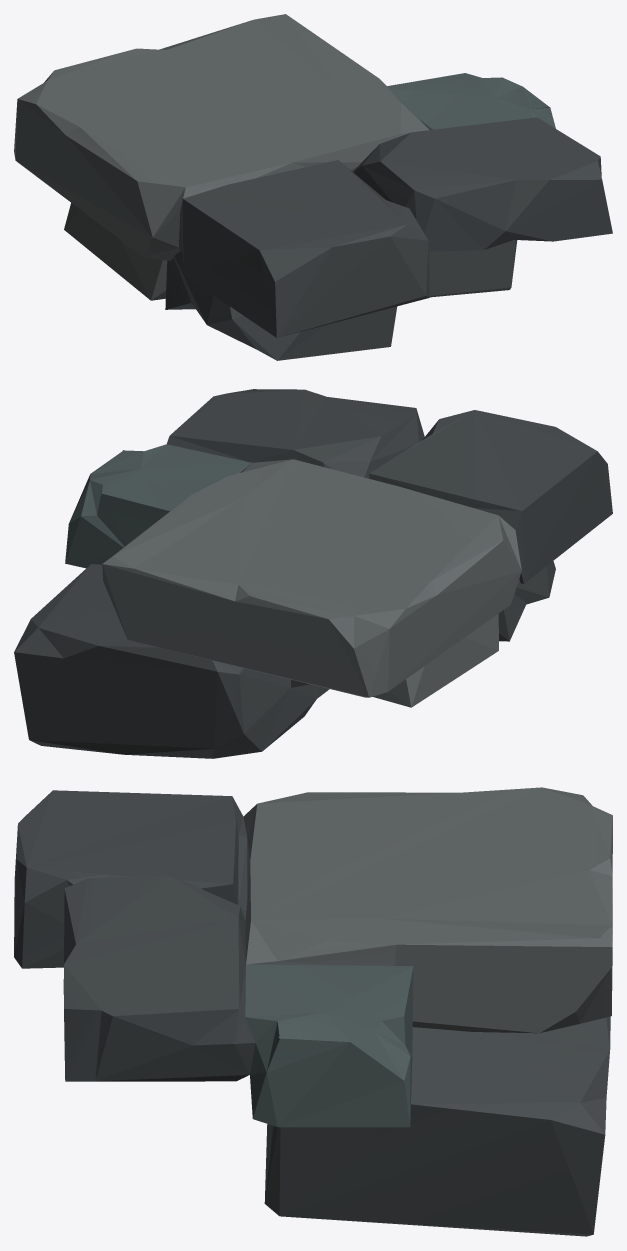
Rendered from MDungenon_StoneFloor_CornerBroken.FBX.
3 renders of one model, top to bottom at view 1: azimuth 30°, elevation 25°; view 2: azimuth 150°, elevation 25°; view 3: azimuth 270°, elevation 25°, orthographic. The views are drawn at different scales.
Visible parts, largest first — view 1: MDungenon_StoneFloor_CornerBroken_LOD0; view 2: MDungenon_StoneFloor_CornerBroken_LOD0; view 3: MDungenon_StoneFloor_CornerBroken_LOD0.
Boxes of the visible parts, x1,y1,x2,y2 form: MDungenon_StoneFloor_CornerBroken_LOD0: [14, 14, 612, 360]; MDungenon_StoneFloor_CornerBroken_LOD0: [14, 389, 612, 758]; MDungenon_StoneFloor_CornerBroken_LOD0: [14, 787, 612, 1236].
Size of what is drawn, in the model's own units: 3.43 by 1.83 by 3.76.
